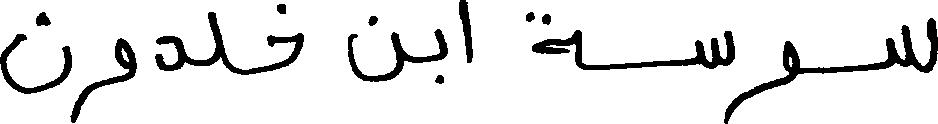X: (0, 7, 69, 98), (72, 33, 135, 123), (736, 36, 799, 112), (348, 11, 403, 86), (696, 26, 734, 123), (532, 7, 581, 73), (887, 13, 937, 77), (268, 0, 302, 75), (155, 31, 184, 75), (209, 7, 224, 70), (459, 0, 472, 67), (436, 24, 446, 88)
